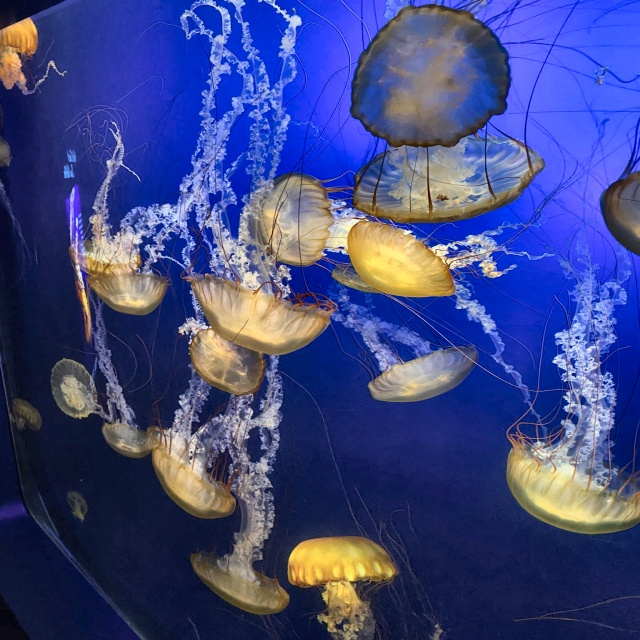jellyfish: (350, 5, 509, 148), (351, 134, 543, 222), (507, 444, 639, 535), (190, 275, 331, 356), (348, 218, 456, 299), (249, 172, 325, 267), (366, 344, 477, 408), (151, 443, 235, 520), (188, 552, 290, 615), (290, 535, 397, 588), (190, 329, 268, 398), (90, 276, 170, 318), (600, 173, 639, 259), (48, 359, 102, 418), (66, 237, 140, 278), (103, 424, 161, 456), (0, 15, 41, 53), (10, 399, 44, 432), (65, 493, 89, 514), (0, 137, 11, 168)
